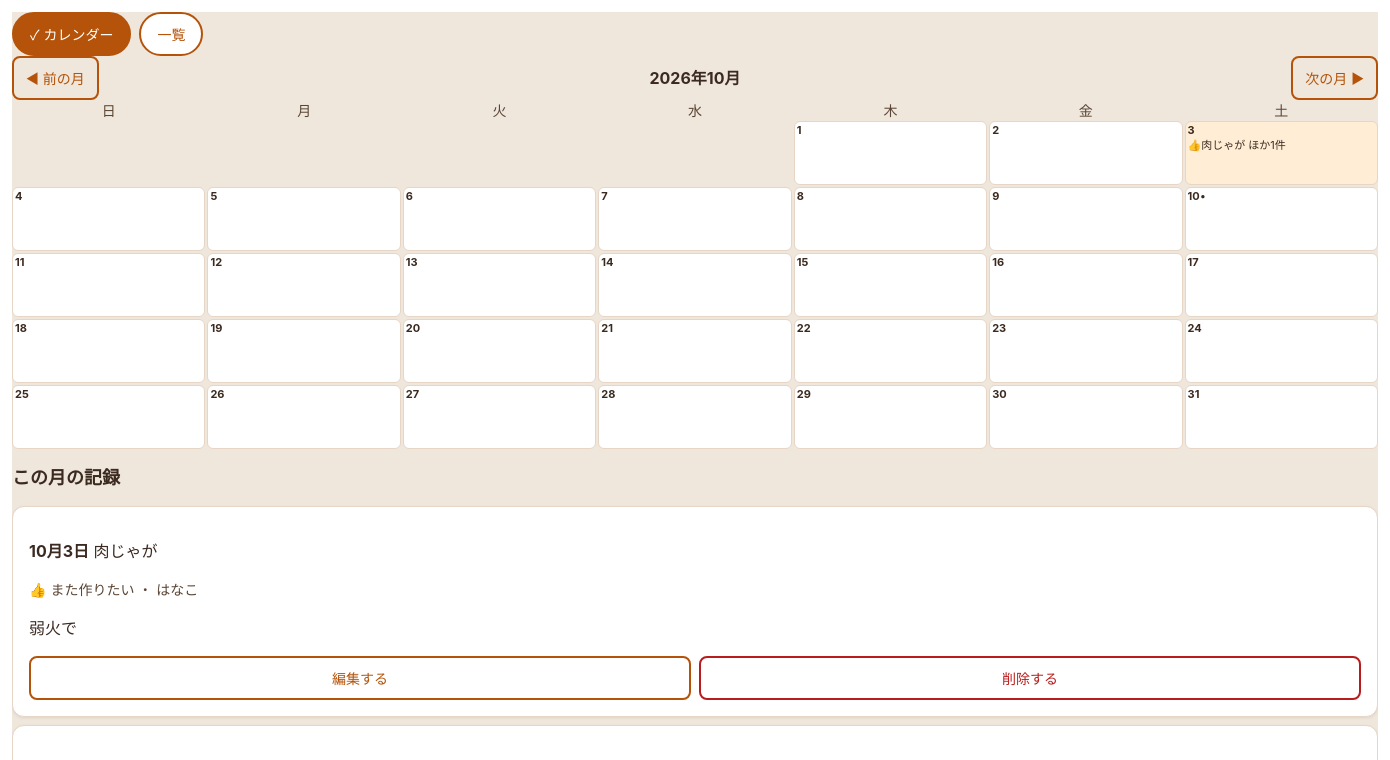
Test: 記録の画面：カレンダーと一覧 › 未来の日は追加できず、理由を示す
What coordinates should you click on to do the following:
click the button with test id "cal-day-2026-10-20"
I would click on:
 (500, 351)
Its box is [403,319,596,383].
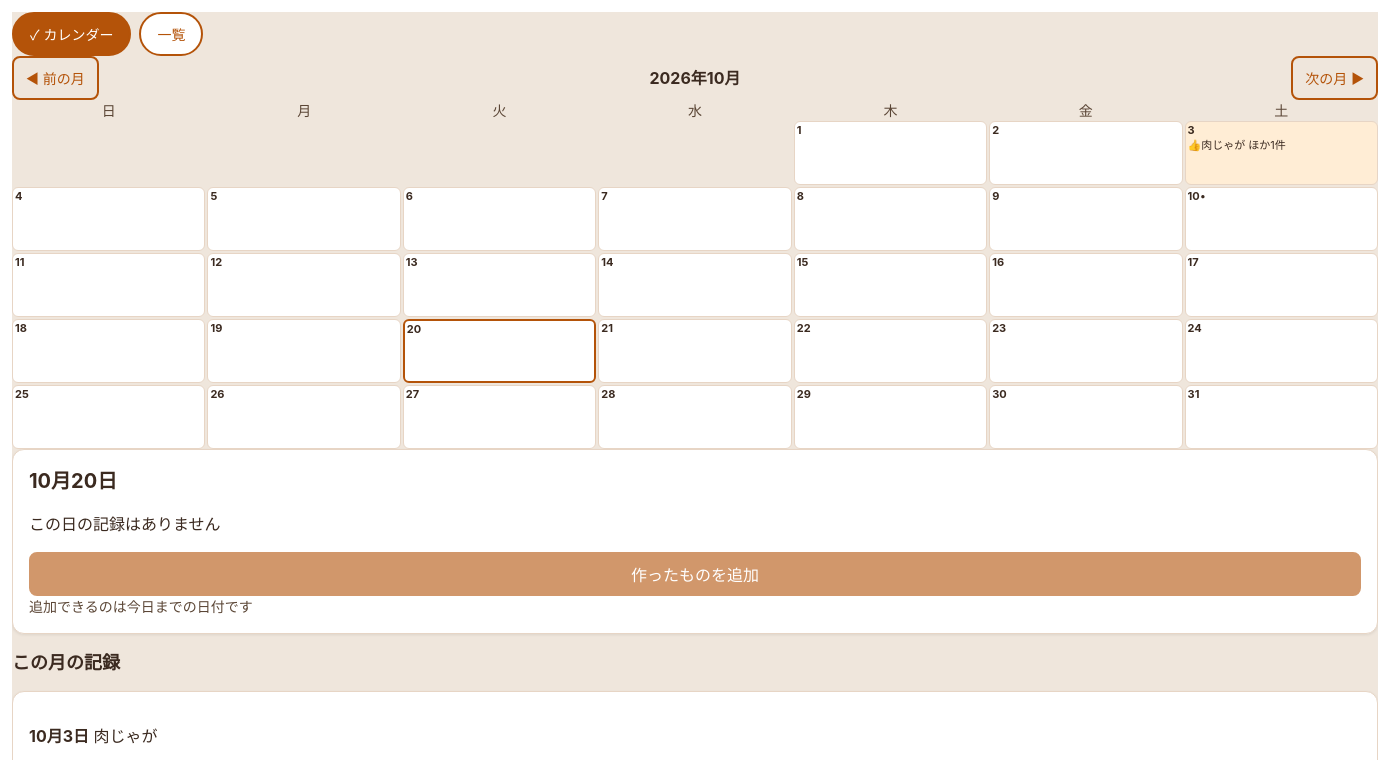
Expected: the button with test id "day-add-button" is disabled, [29,552,1361,596]
Expected: the text with test id "day-future-hint" shows "今日まで", [29,598,253,615]
